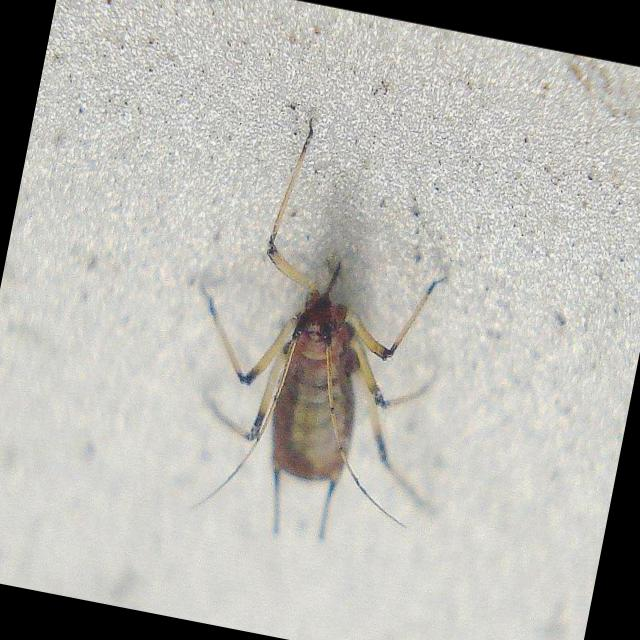Aphids: (158, 132, 470, 547)
